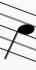note: (4, 1, 35, 63)
